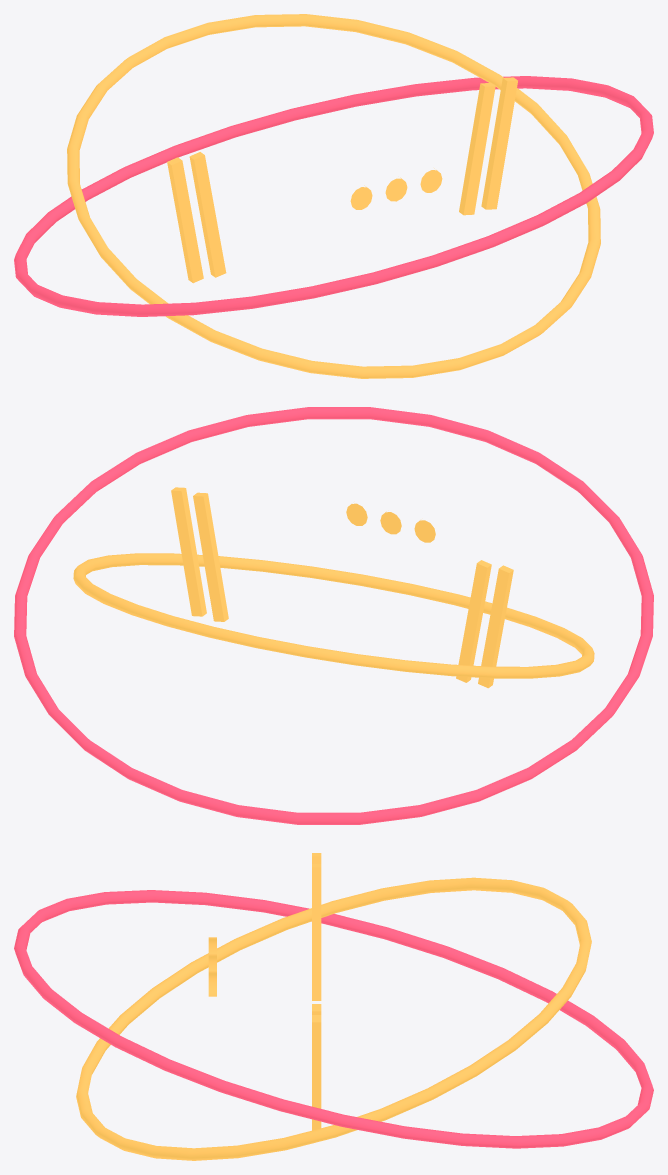
The model's file is avatar-brasa-kit-operador.glb.
3 renders of one model, top to bottom at view 1: azimuth 30°, elevation 25°; view 2: azimuth 150°, elevation 25°; view 3: azimuth 270°, elevation 25°, orthographic. The views are drawn at different scales.
Visible parts, largest first — view 1: kit_brasa_operador_railB, kit_brasa_operador_railA, kit_brasa_operador_execTrackAL, kit_brasa_operador_execTrackBL, kit_brasa_operador_execTrackBR, kit_brasa_operador_execTrackAR; view 2: kit_brasa_operador_railB, kit_brasa_operador_railA, kit_brasa_operador_execTrackBL, kit_brasa_operador_execTrackAL, kit_brasa_operador_execTrackBR, kit_brasa_operador_execTrackAR; view 3: kit_brasa_operador_railB, kit_brasa_operador_railA, kit_brasa_operador_execTrackAR, kit_brasa_operador_execTrackBL.
Part boxes in pixels (box(x1,y1,x2,y2)): kit_brasa_operador_railB: box(14, 76, 653, 316); kit_brasa_operador_railA: box(67, 14, 600, 378); kit_brasa_operador_execTrackAL: box(459, 83, 495, 215); kit_brasa_operador_execTrackBL: box(481, 77, 517, 209); kit_brasa_operador_execTrackBR: box(167, 157, 203, 283); kit_brasa_operador_execTrackAR: box(189, 152, 226, 277); kit_brasa_operador_railB: box(14, 407, 653, 824); kit_brasa_operador_railA: box(73, 553, 594, 678); kit_brasa_operador_execTrackBL: box(171, 487, 206, 616); kit_brasa_operador_execTrackAL: box(193, 492, 228, 621); kit_brasa_operador_execTrackBR: box(478, 565, 513, 688); kit_brasa_operador_execTrackAR: box(456, 560, 491, 682); kit_brasa_operador_railB: box(14, 890, 653, 1148); kit_brasa_operador_railA: box(76, 877, 591, 1160); kit_brasa_operador_execTrackAR: box(312, 864, 321, 1000); kit_brasa_operador_execTrackBL: box(312, 1015, 321, 1130).
Bounding box in the file's own units: 1.13 × 0.3186 × 1.11.
